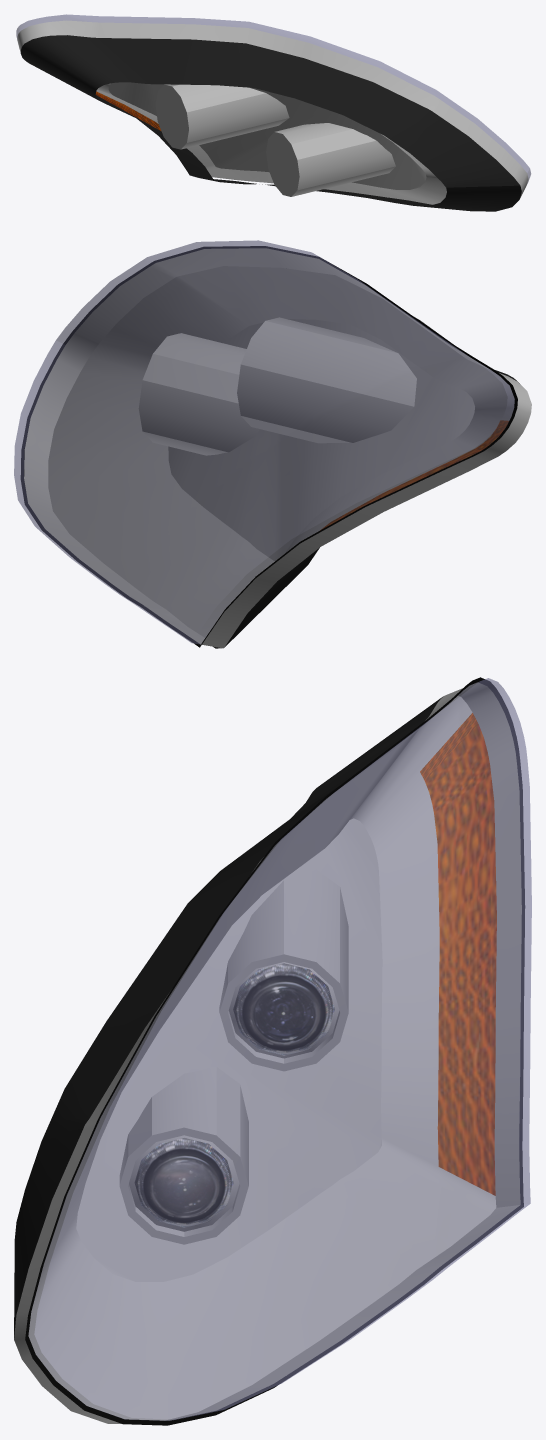
The picture shows the model from 3 angles, top to bottom: view 1: azimuth 30°, elevation 25°; view 2: azimuth 150°, elevation 25°; view 3: azimuth 270°, elevation 25°; orthographic projection. The views are drawn at different scales.
Parts seen in each view (by area): view 1: Z727_061B_L_Z727_061B_L_3_DaS, Z727_061B_L_Z727_061B_L_4_D, Z727_061B_L_Z727_061B_L_6_DTaSI, Z727_061B_L_Z727_061B_L_2_N; view 2: Z727_061B_L_Z727_061B_L_3_DaS, Z727_061B_L_Z727_061B_L_6_DTaSI, Z727_061B_L_Z727_061B_L_7_D, Z727_061B_L_Z727_061B_L_4_D, Z727_061B_L_Z727_061B_L_2_N; view 3: Z727_061B_L_Z727_061B_L_6_DTaSI, Z727_061B_L_Z727_061B_L_3_DaS, Z727_061B_L_Z727_061B_L_2_N, Z727_061B_L_Z727_061B_L_4_D, Z727_061B_L_1_N_Z727_061B_L, Z727_061B_L_Z727_061B_L_5_N, Z727_061B_L_Z727_061B_L_7_D.
Boxes of the visible parts, box(x1,y1,x2,y2) form: Z727_061B_L_Z727_061B_L_3_DaS: box(17, 20, 528, 204); Z727_061B_L_Z727_061B_L_4_D: box(20, 35, 521, 211); Z727_061B_L_Z727_061B_L_6_DTaSI: box(16, 14, 530, 183); Z727_061B_L_Z727_061B_L_2_N: box(95, 91, 161, 130); Z727_061B_L_Z727_061B_L_3_DaS: box(24, 248, 531, 648); Z727_061B_L_Z727_061B_L_6_DTaSI: box(14, 240, 514, 644); Z727_061B_L_Z727_061B_L_7_D: box(21, 246, 517, 647); Z727_061B_L_Z727_061B_L_4_D: box(213, 317, 519, 648); Z727_061B_L_Z727_061B_L_2_N: box(320, 420, 508, 530); Z727_061B_L_Z727_061B_L_6_DTaSI: box(28, 678, 531, 1420); Z727_061B_L_Z727_061B_L_3_DaS: box(14, 682, 521, 1423); Z727_061B_L_Z727_061B_L_2_N: box(420, 713, 496, 1195); Z727_061B_L_Z727_061B_L_4_D: box(14, 697, 442, 1337); Z727_061B_L_1_N_Z727_061B_L: box(233, 963, 334, 1055); Z727_061B_L_Z727_061B_L_5_N: box(134, 1138, 233, 1227); Z727_061B_L_Z727_061B_L_7_D: box(25, 677, 524, 1425).
Bounding box in the file's own units: 53.96 × 28.22 × 31.41.
